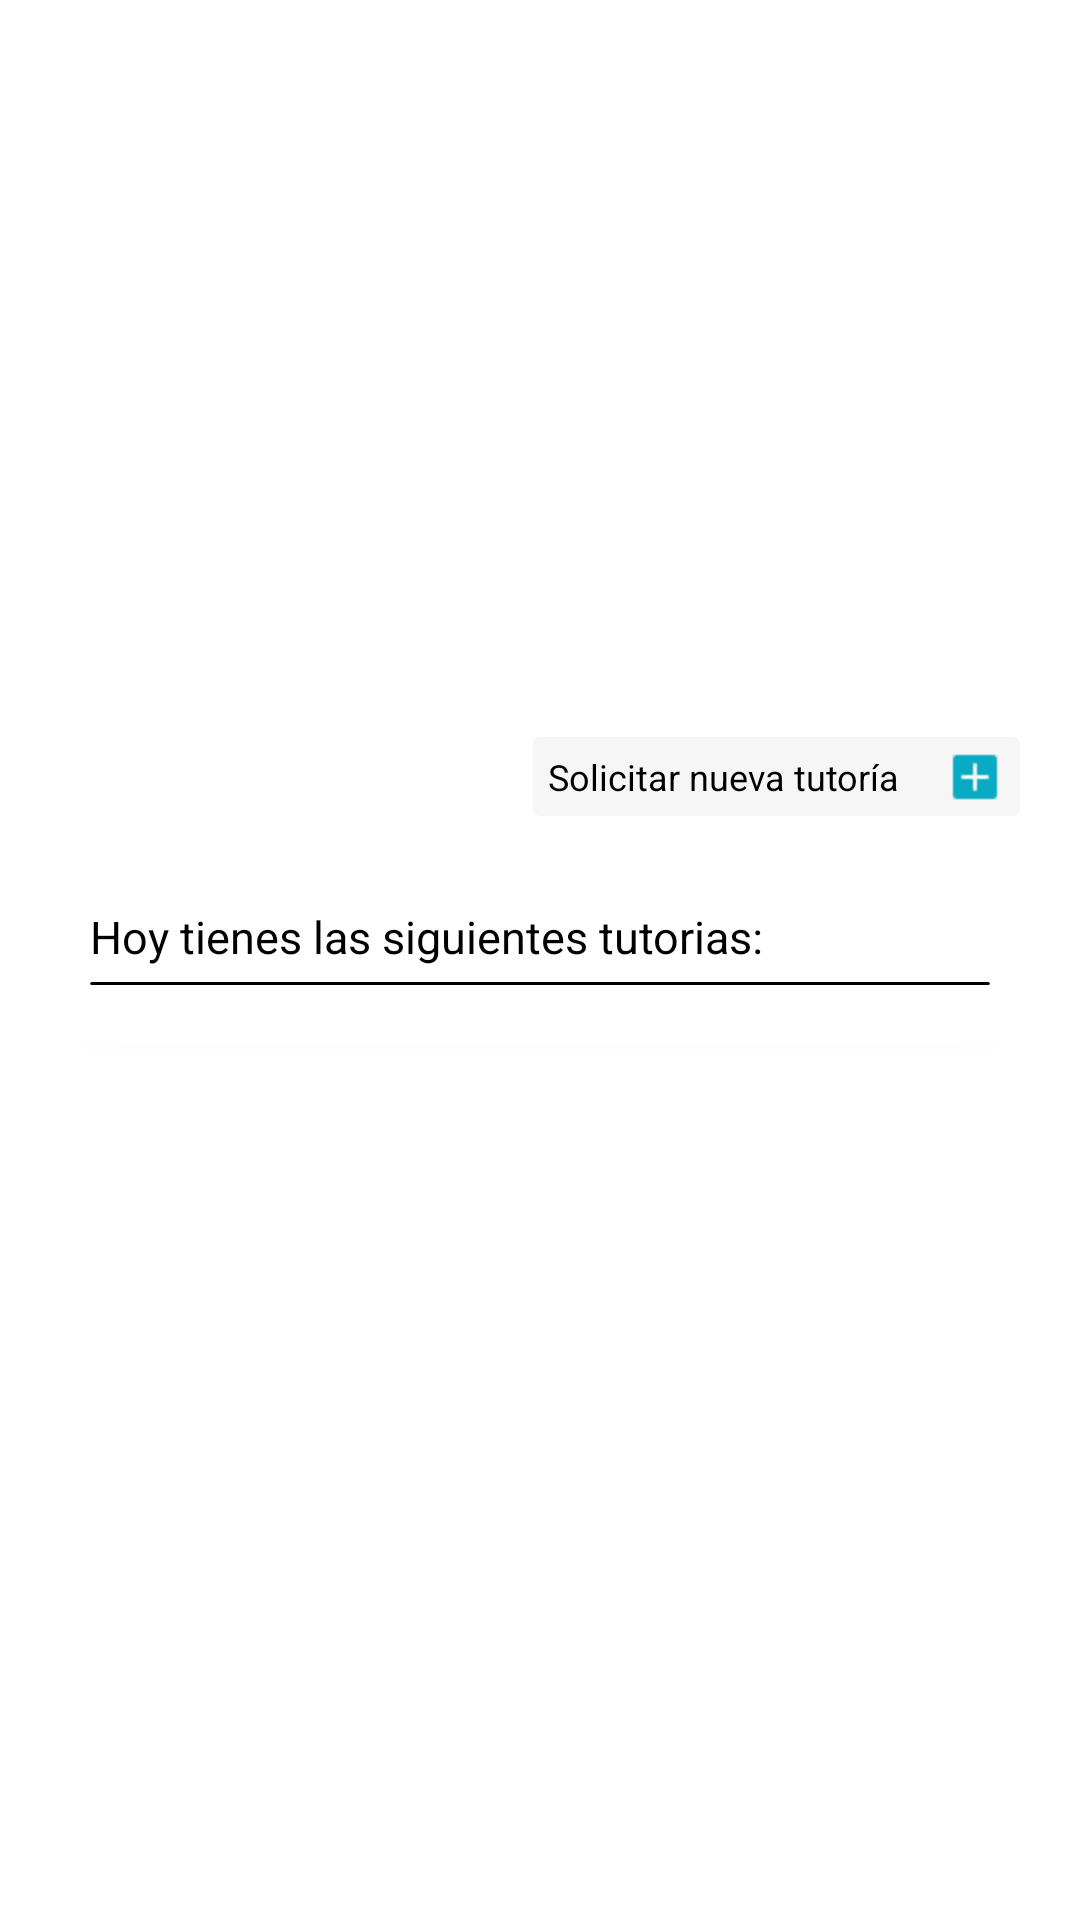

Icons on this 1080px x 1920px Android screen, each with the point to tap as point (x, y):
add: point (975, 777)
